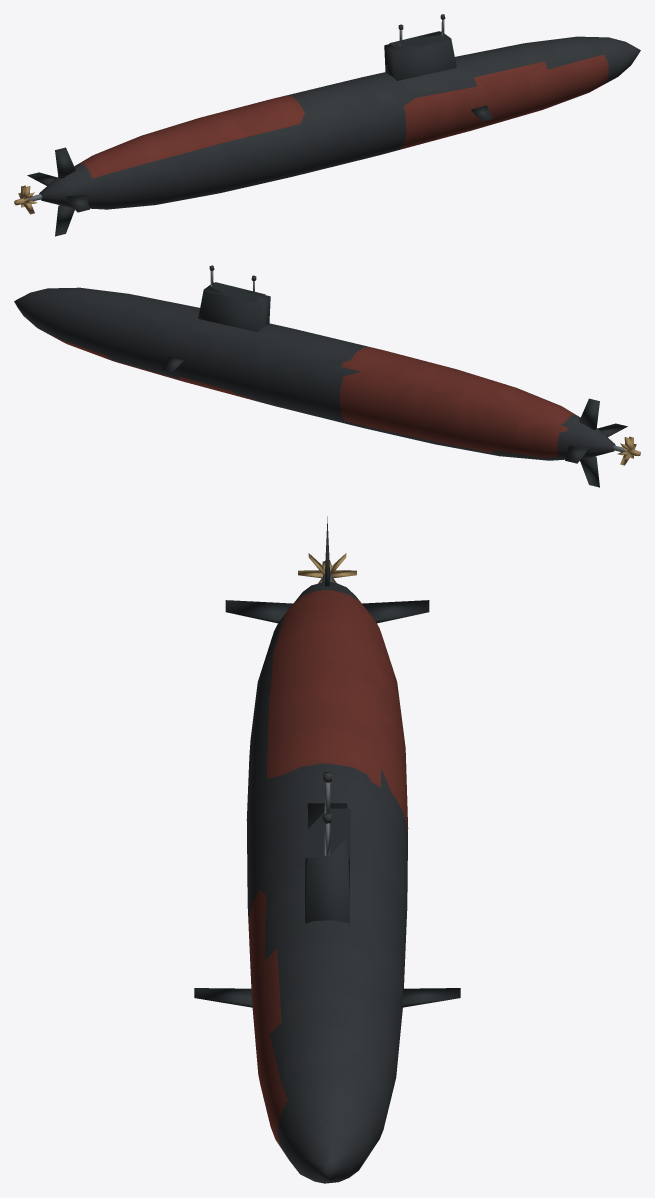
Rendered from UK_SSN_Valiant_LOD3.fbx.
The picture shows the model from 3 angles, top to bottom: view 1: azimuth 30°, elevation 25°; view 2: azimuth 150°, elevation 25°; view 3: azimuth 270°, elevation 25°; orthographic projection. The views are drawn at different scales.
Parts seen in each view (by area): view 1: UK_SSN_Valiant_LOD3; view 2: UK_SSN_Valiant_LOD3; view 3: UK_SSN_Valiant_LOD3.
Part boxes in pixels (x1,y1,x2,y2): UK_SSN_Valiant_LOD3: (14,14,640,236); UK_SSN_Valiant_LOD3: (14,265,640,487); UK_SSN_Valiant_LOD3: (194,516,460,1183).
Bounding box in the file's own units: 90.75 × 16.71 × 17.55.
Materials: 6 (1 with a texture image).
